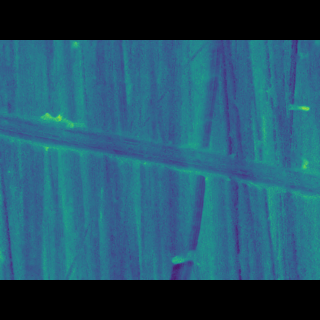Loch: (0, 122, 320, 192), (166, 69, 231, 252)
